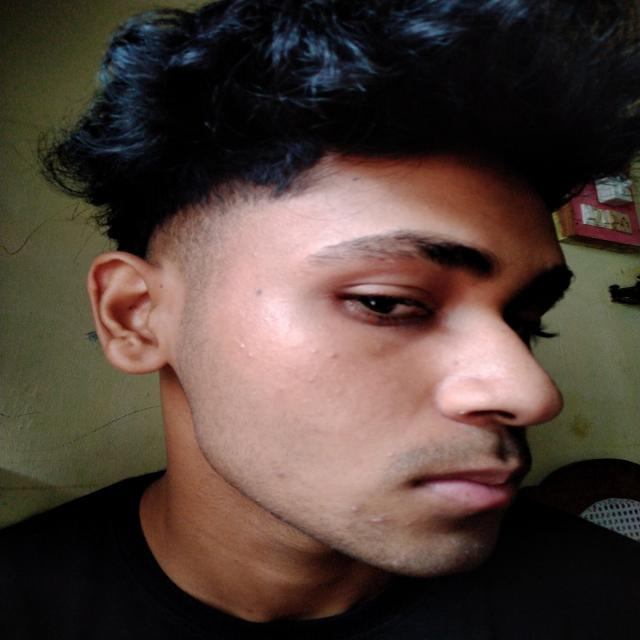Acne: (232, 342, 253, 359), (304, 375, 324, 392), (370, 514, 391, 530), (278, 363, 298, 378), (402, 513, 417, 531), (274, 384, 292, 398), (383, 447, 401, 461), (450, 358, 468, 372), (304, 347, 323, 360), (326, 351, 346, 363), (345, 502, 364, 513), (410, 427, 426, 439), (270, 472, 289, 482), (389, 557, 405, 566)
